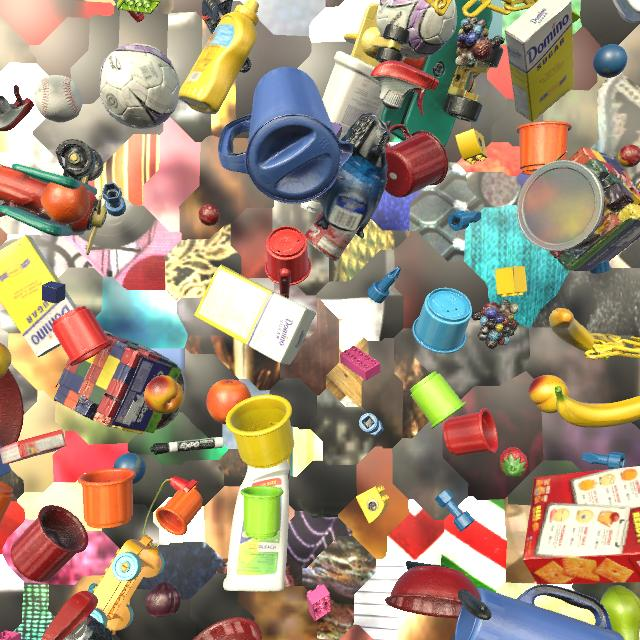ycb_003_cracker_box: (523, 466, 640, 585)
ycb_004_sugar_box: (194, 265, 316, 365), (0, 236, 77, 357), (505, 0, 574, 122)
ycb_005_tomato_soup_can: (305, 211, 361, 261)
ycb_006_mustard_bottle: (179, 0, 259, 115)
ycb_009_gelatin_box: (0, 429, 67, 465)
ycb_011_banana: (555, 386, 640, 428), (549, 308, 610, 360)
ycb_012_strawberry: (500, 447, 528, 478)
ycb_015_peach: (144, 375, 184, 414), (529, 375, 569, 413), (0, 343, 12, 378)
ycb_016_pear: (600, 585, 640, 640)
ycb_017_orange: (41, 182, 90, 225), (207, 380, 251, 425)
ycb_018_plum: (145, 581, 181, 617)
